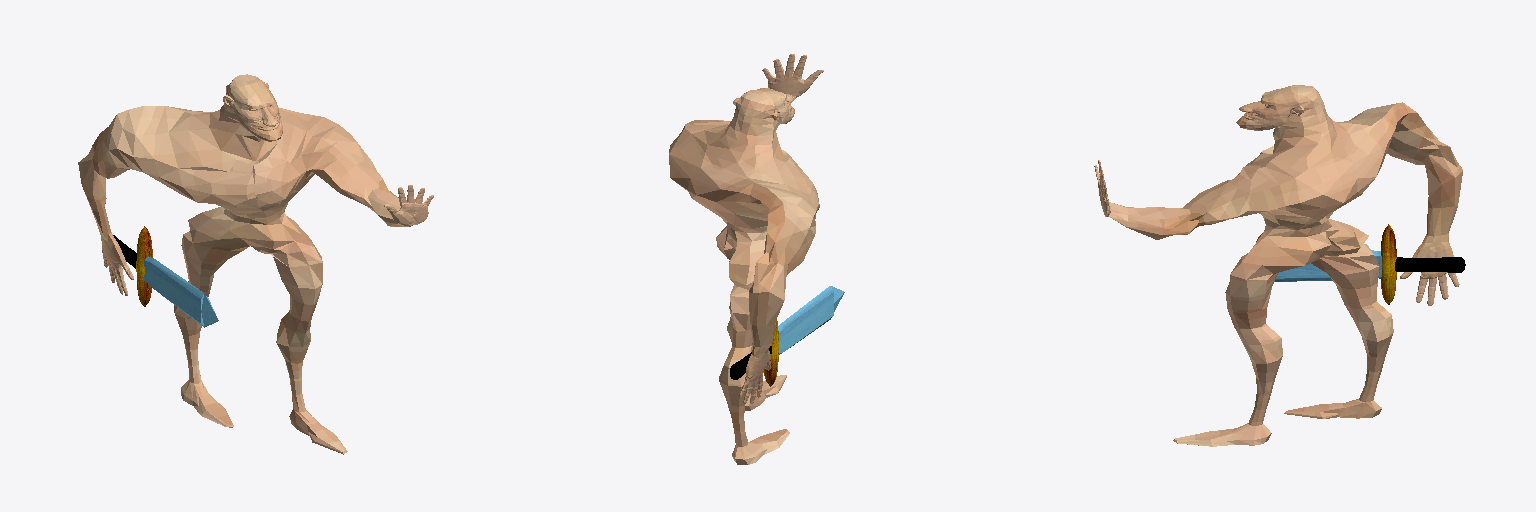
3 views of the same model, side by side, from view 1: azimuth 30°, elevation 25°; view 2: azimuth 150°, elevation 25°; view 3: azimuth 270°, elevation 25° (orthographic).
Visible parts, largest first — view 1: attackStance1_soldiersoldier120, attackStance1_pCube3; view 2: attackStance1_soldiersoldier120, attackStance1_pCube3; view 3: attackStance1_soldiersoldier120, attackStance1_pCube3.
Part boxes in pixels (bbox=[...]): attackStance1_soldiersoldier120: bbox=[78, 74, 433, 454]; attackStance1_pCube3: bbox=[113, 226, 218, 327]; attackStance1_soldiersoldier120: bbox=[669, 54, 823, 464]; attackStance1_pCube3: bbox=[730, 286, 844, 386]; attackStance1_soldiersoldier120: bbox=[1094, 85, 1462, 446]; attackStance1_pCube3: bbox=[1275, 224, 1465, 304].
Size of the model in its own units: 2.57 by 4.34 by 4.33.
4 materials, 3 textured.